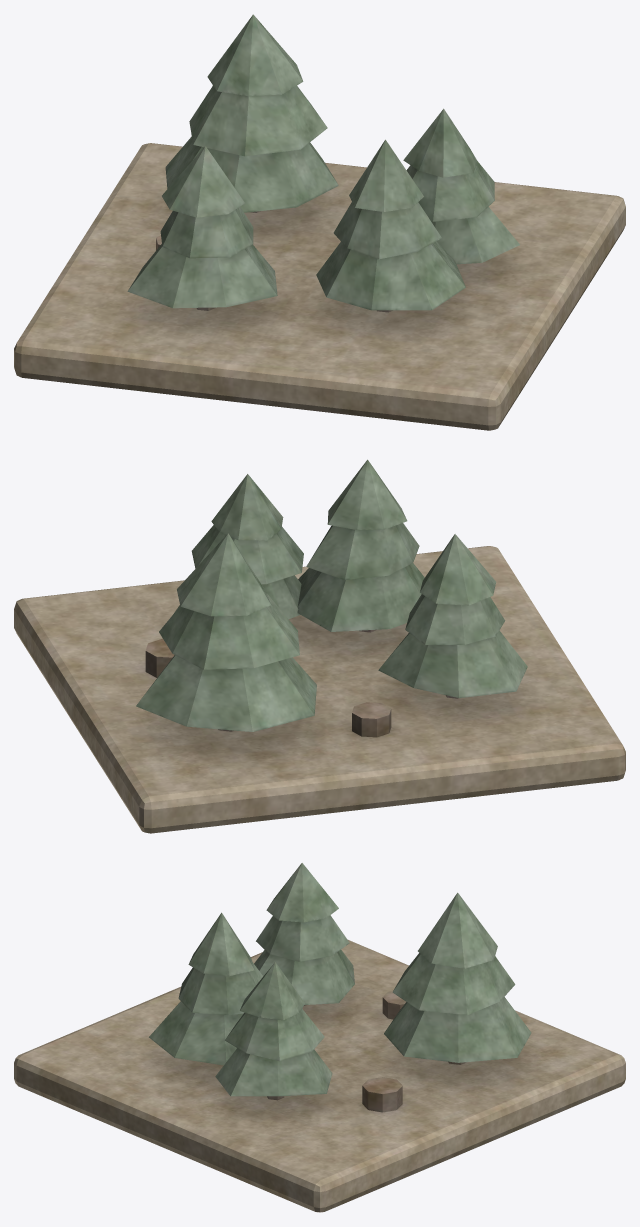
Rendered from durgar_forest.glb.
3 views of the same model, one above another, from view 1: azimuth 30°, elevation 25°; view 2: azimuth 150°, elevation 25°; view 3: azimuth 270°, elevation 25° (orthographic). The views are drawn at different scales.
Parts seen in each view (by area): view 1: dilek; view 2: dilek; view 3: dilek.
Part boxes in pixels (box(x1,y1,x2,y2)): dilek: box(14, 14, 625, 430); dilek: box(14, 459, 625, 833); dilek: box(14, 863, 625, 1212).
Size of the model in its own units: 2.42 by 0.8724 by 2.42.
Materials: 1 (1 with a texture image).
